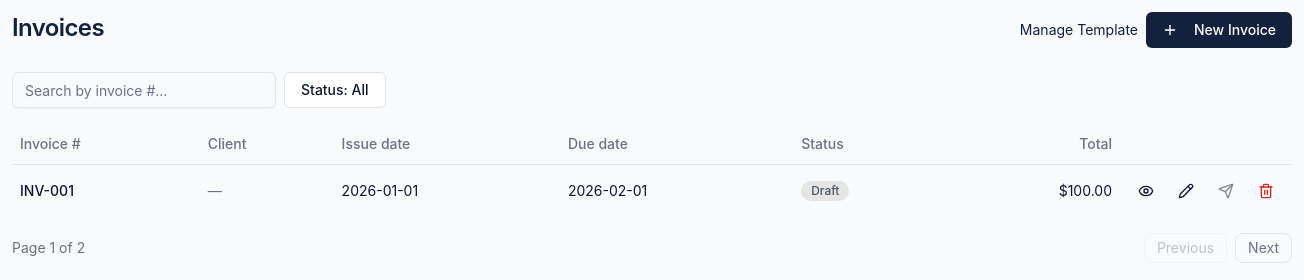
Test case: InvoicesListPage › clicking prev page navigates back after going forward
Step 1. Click the button with test id "btn-next-page" → (1264, 248), box [1235,232,1292,262]
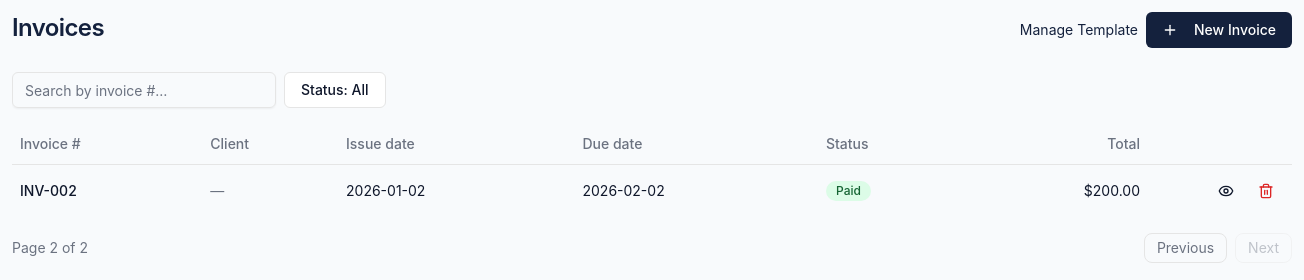
Check: the text "INV-002" is shown, box [12,164,202,216]
Step 2. Click the button with test id "btn-prev-page" → (1186, 248), box [1144,232,1227,262]
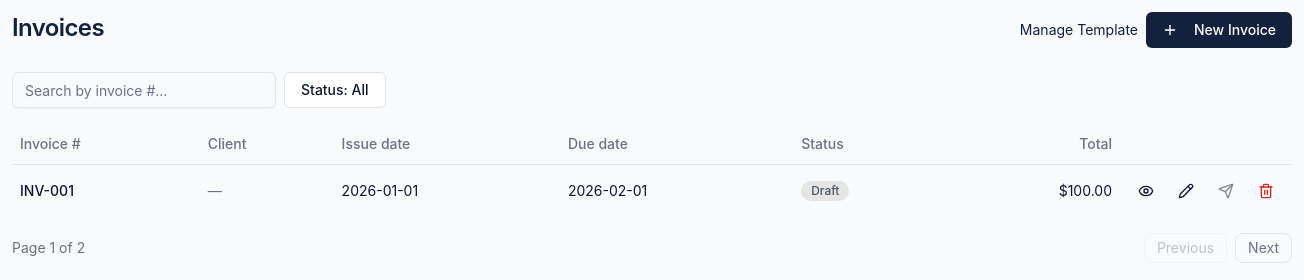
Check: the text "INV-001" is shown, box [12,164,200,216]
